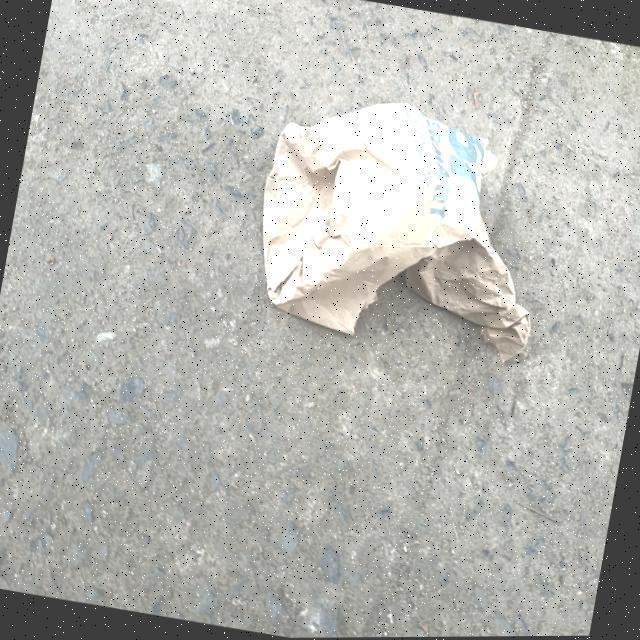Paper_Bag: (243, 82, 570, 367)
